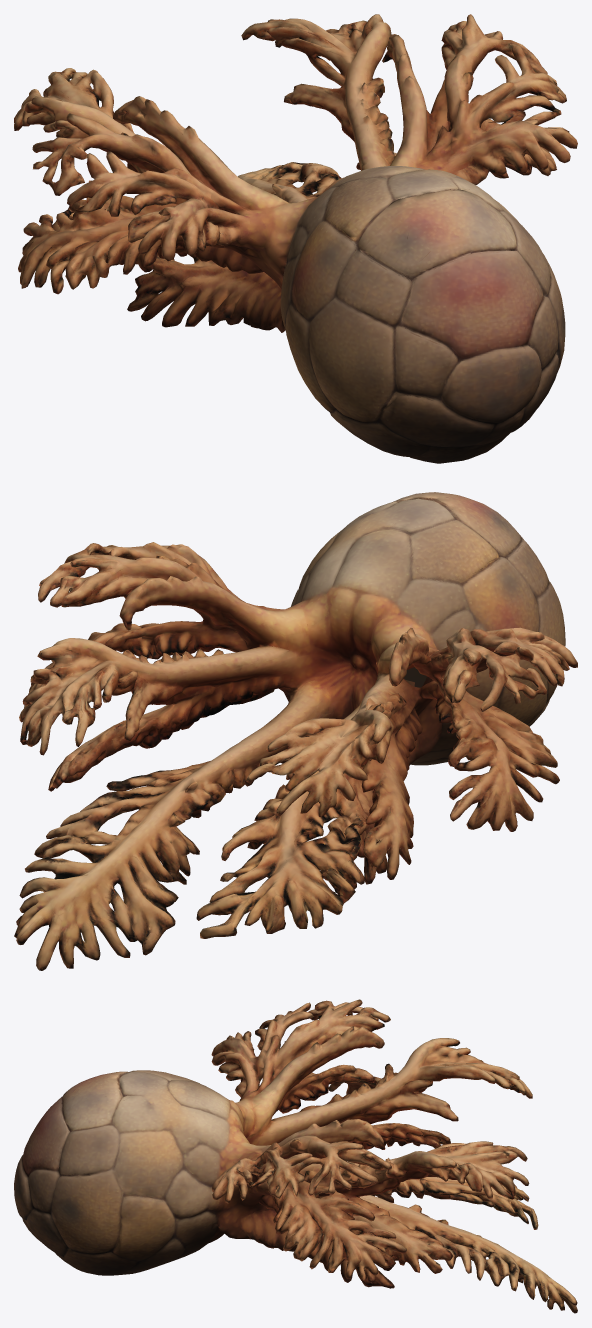
3 views of the same model, one above another, from view 1: azimuth 30°, elevation 25°; view 2: azimuth 150°, elevation 25°; view 3: azimuth 270°, elevation 25° (orthographic). The views are drawn at different scales.
Visible parts, largest first — view 1: world; view 2: world; view 3: world.
Part boxes in pixels (<box>): world: <box>14,14,577,463</box>; world: <box>14,492,577,970</box>; world: <box>14,999,577,1313</box>.
Size of the model in its own units: 0.2151 by 0.1135 by 0.277.
1 material, 1 textured.
